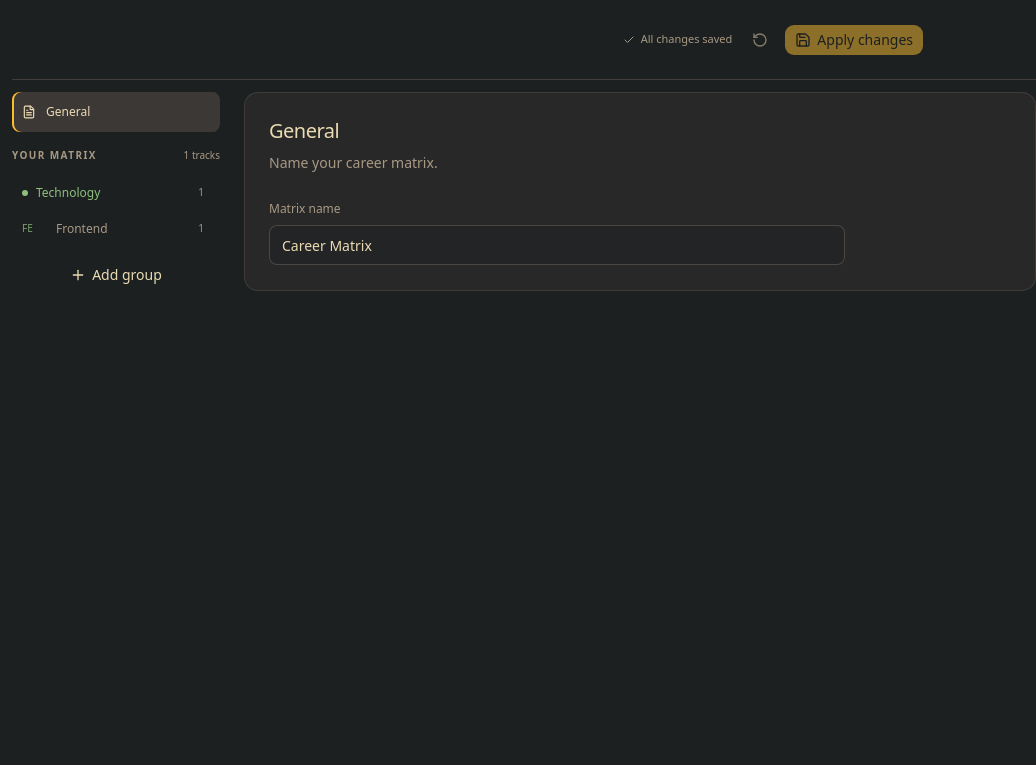
Test: <DocumentForm /> › changes the group color with the keyboard
Click the button "FE Frontend 1".
click(113, 229)  # box [14,213,212,245]
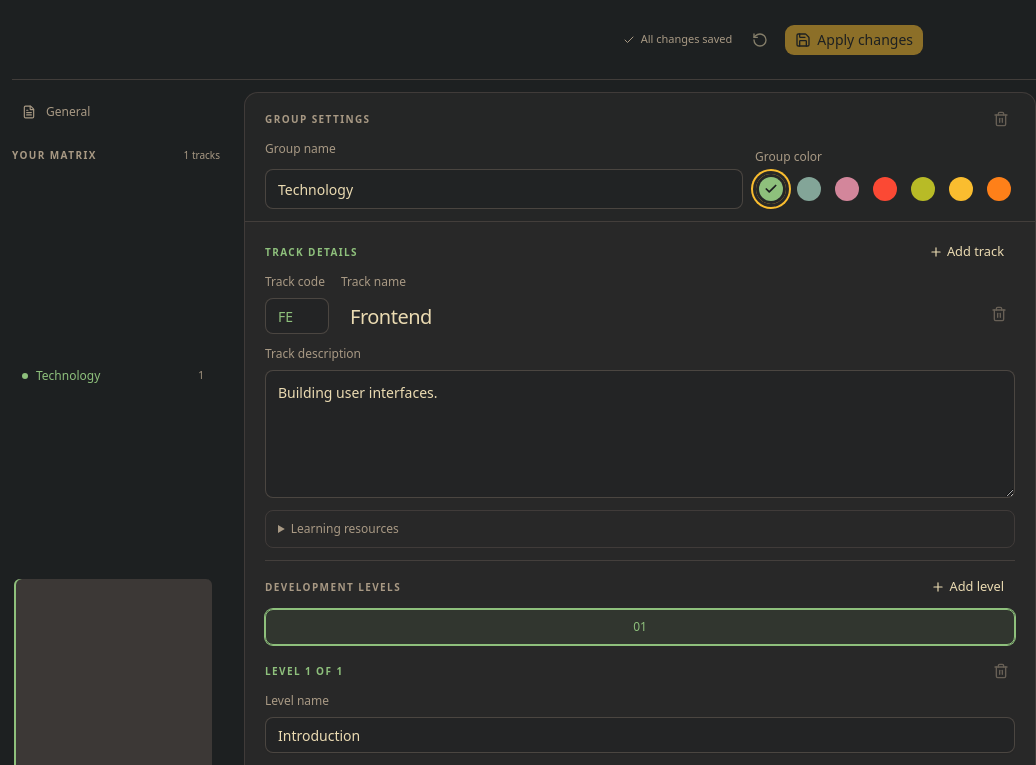
Press Arrowright
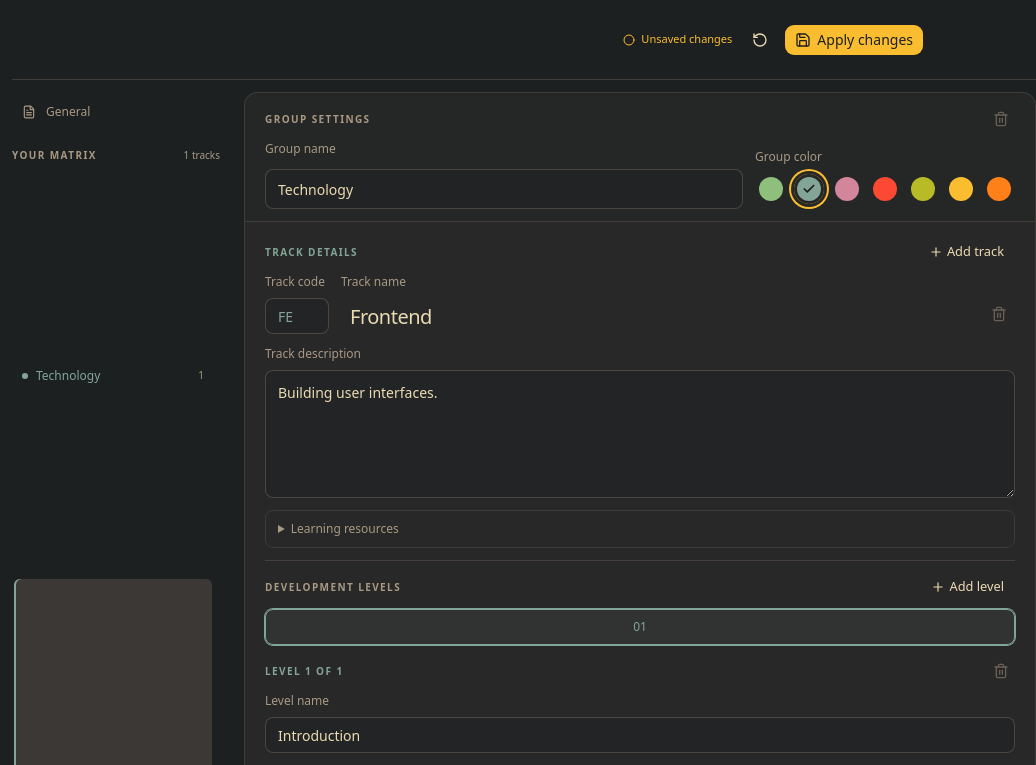
Expected: the radio button named "Blue" is checked, [793,173,825,205]
Expected: the text "Unsaved changes" is shown, [641,31,732,48]
